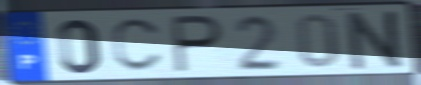0: (293, 12, 342, 71), (56, 17, 101, 76)
2: (232, 13, 283, 72)
C: (110, 16, 165, 75)
N: (345, 8, 408, 72)
P: (169, 13, 226, 75)
